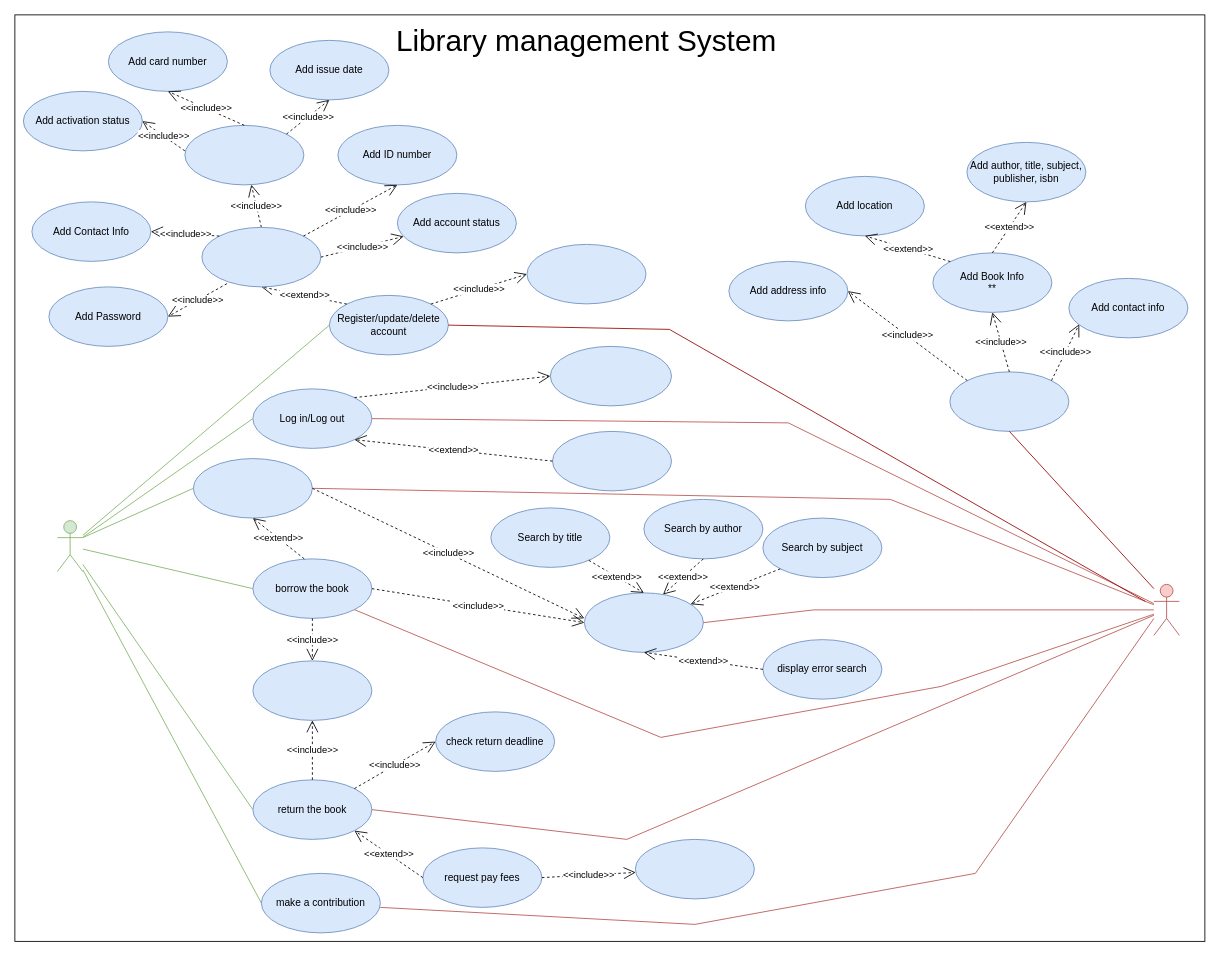
The diagram is 1220 pixels wide and 956 high, and some of its shapes have lost their labels. The shapes that lost their labels are listed below. From the top down, each one's centre as x and y in pixels, then its label:
At pixel 244 155: "Add Member Card".
At pixel 261 257: "Add accounts info".
At pixel 586 274: "Issue Member Card".
At pixel 611 376: "verify credentials".
At pixel 1009 401: "Add Library Info".
At pixel 612 461: "display Error login".
At pixel 252 488: "Reserve book".
At pixel 70 546: "Member".
At pixel 643 622: "search the book in the library".
At pixel 1166 609: "Librarian".
At pixel 312 690: "update library".
At pixel 694 869: "bill issue".
